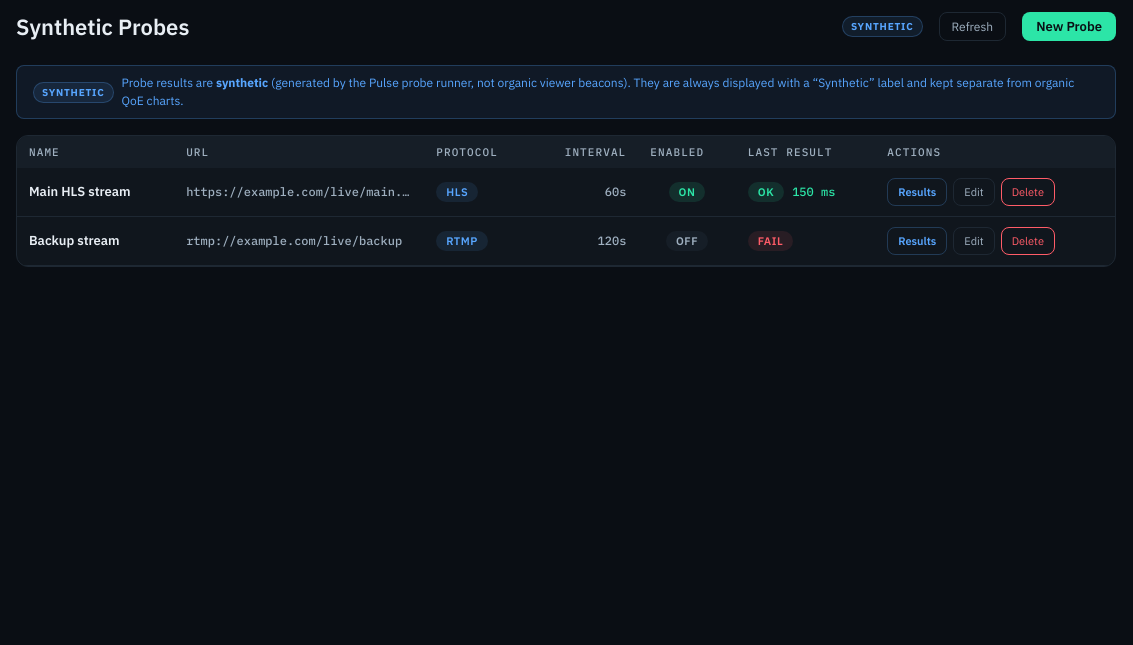
Test: ProbesPage signaling_state column › renders 'Signaling' column header in results table
Expected: the text "Main HLS stream" is shown, [17,168,174,216]
What coordinates should you click on to do the following:
click the button with aria-label "view results for"
I would click on:
 (917, 192)
Its box is [887,178,947,206].
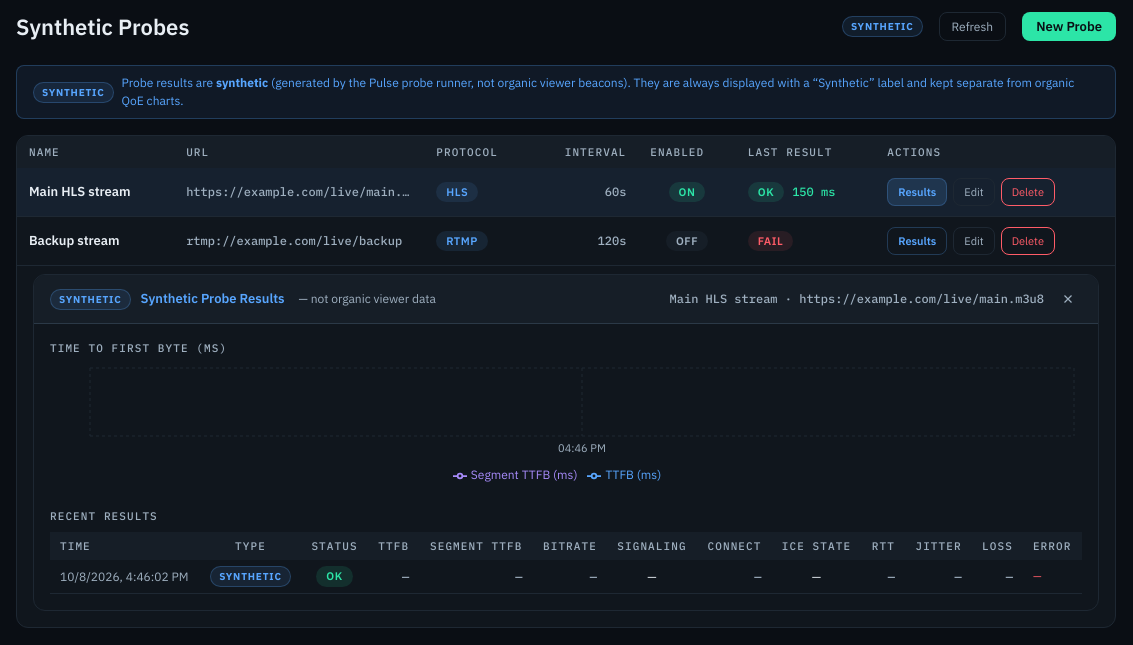
Result: the text "Synthetic Probe Results" is shown at [141,289,285,309]
Result: the column heading "Signaling" is shown at [607,532,697,560]
